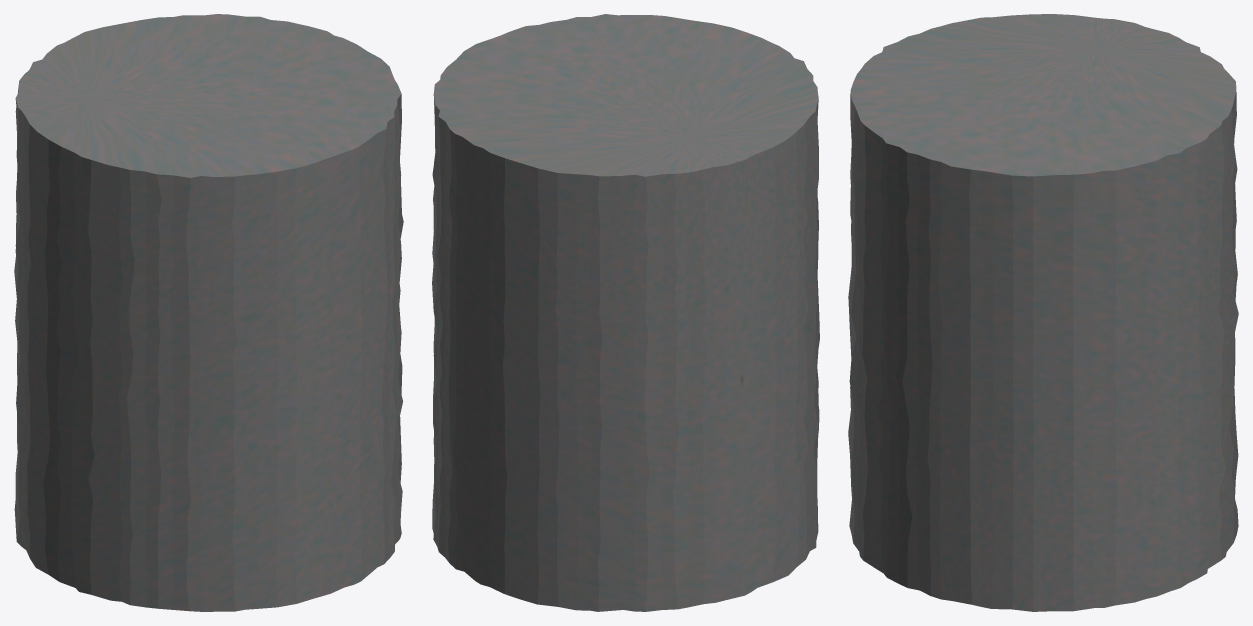
Rendered from barrel_67.dae.
3 renders of one model, left to right at view 1: azimuth 30°, elevation 25°; view 2: azimuth 150°, elevation 25°; view 3: azimuth 270°, elevation 25°, orthographic.
Parts seen in each view (by area): view 1: Cylinder; view 2: Cylinder; view 3: Cylinder.
Boxes of the visible parts, x1,y1,x2,y2 form: Cylinder: (14, 14, 403, 611); Cylinder: (432, 14, 819, 611); Cylinder: (848, 14, 1238, 611).
Bounding box in the file's own units: 0.8194 × 0.8133 × 1.
1 material, 1 textured.
